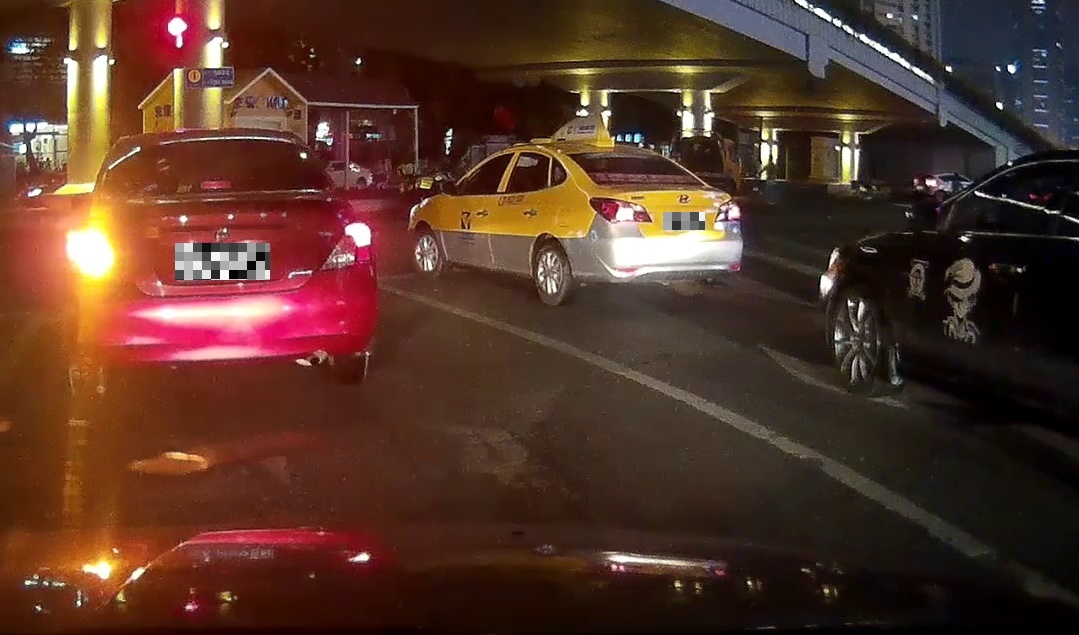L_light: (69, 232, 122, 281), (588, 196, 653, 226)
R_light: (319, 221, 372, 270), (713, 197, 743, 223)
T_light: (197, 178, 234, 189), (645, 177, 668, 183)
night-left: (64, 124, 378, 400)
night-no: (557, 138, 744, 309)
plate_1: (175, 243, 270, 280)
plate_2: (663, 212, 705, 230)
